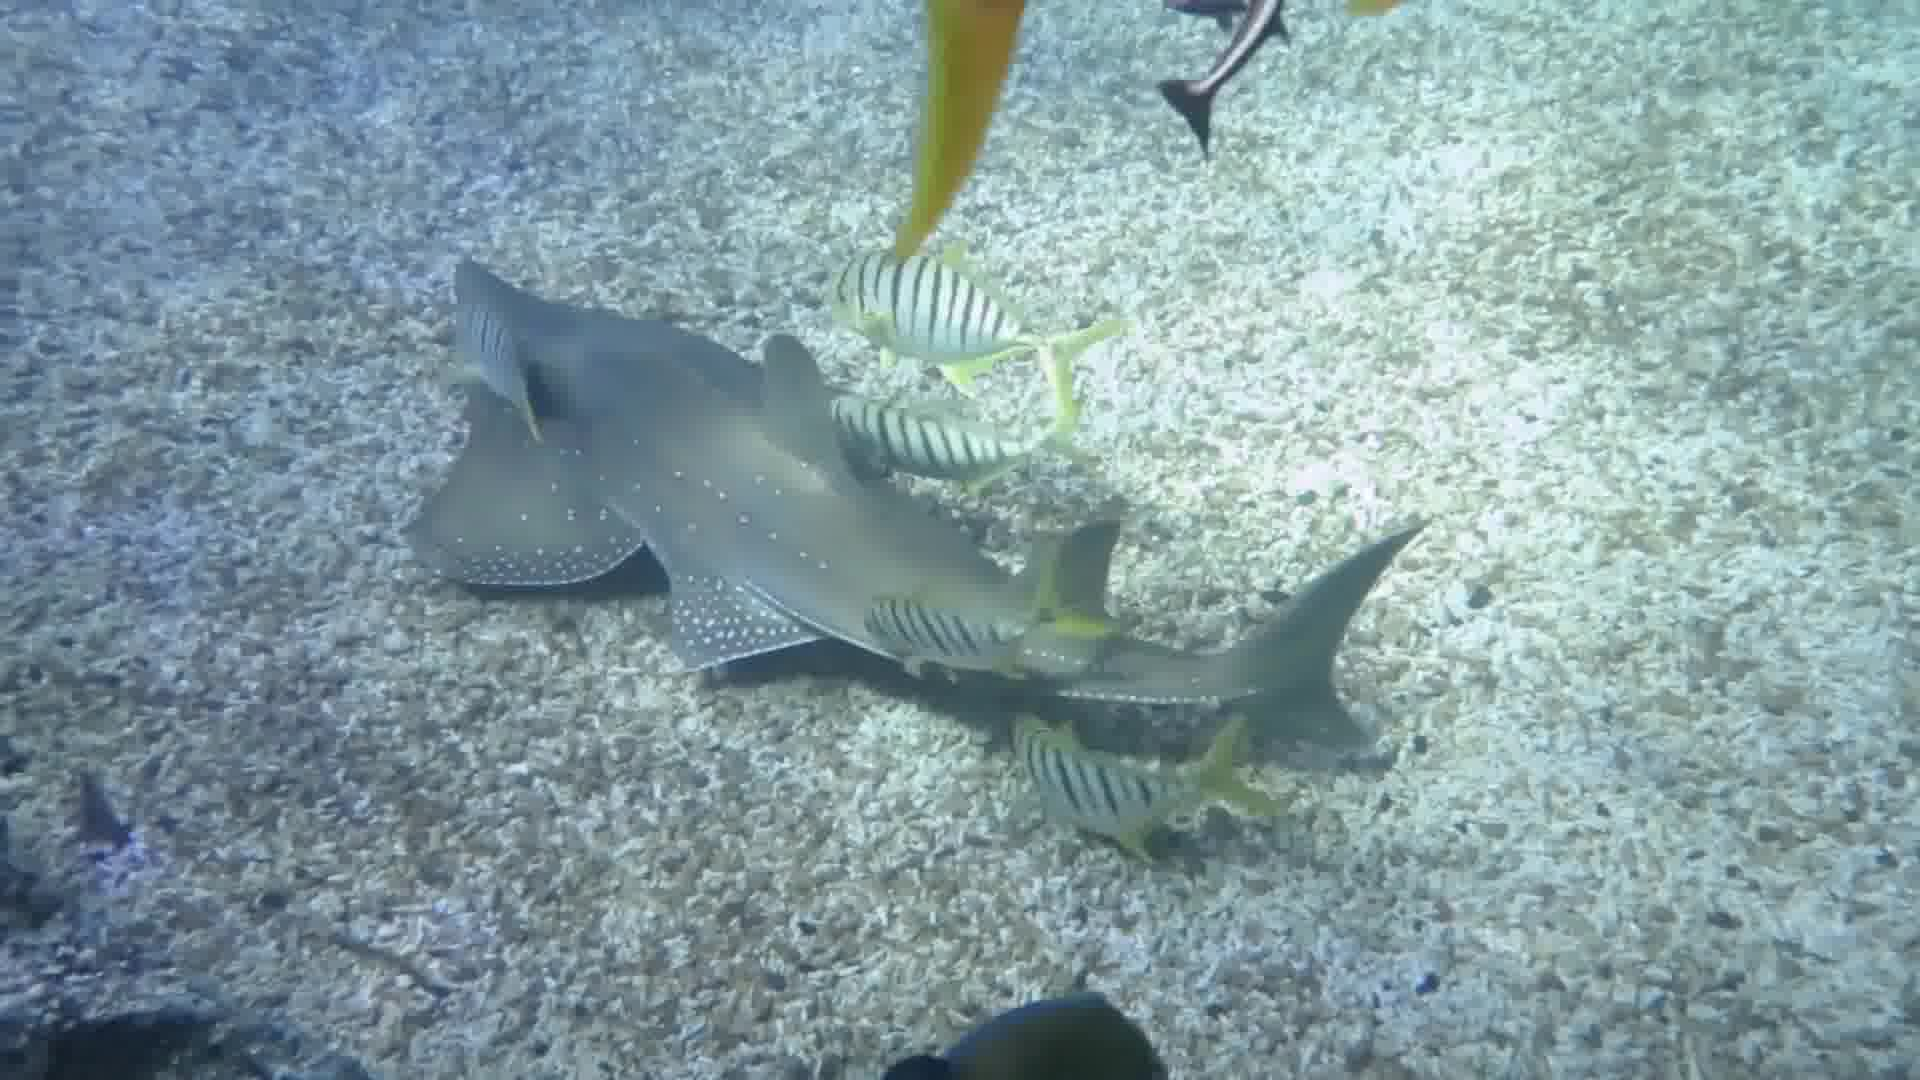Rhychobatus djiddensis: (392, 258, 1449, 750)
